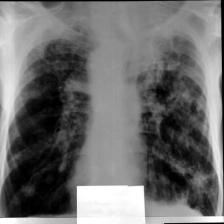tuberculosis: (5, 24, 219, 224)
